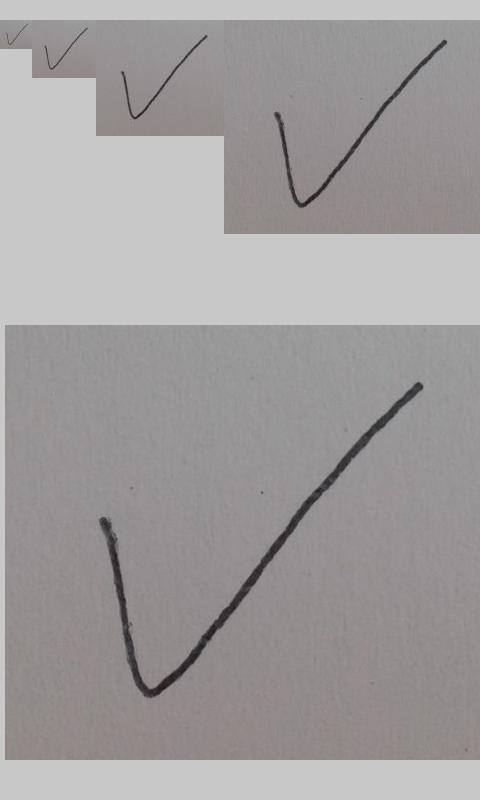check_box: (96, 379, 425, 698), (274, 39, 447, 209), (121, 35, 208, 120), (44, 27, 88, 70), (5, 24, 28, 46)
